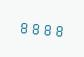eight: (18, 17, 28, 35), (29, 18, 39, 36), (40, 19, 50, 37), (51, 20, 61, 38)
